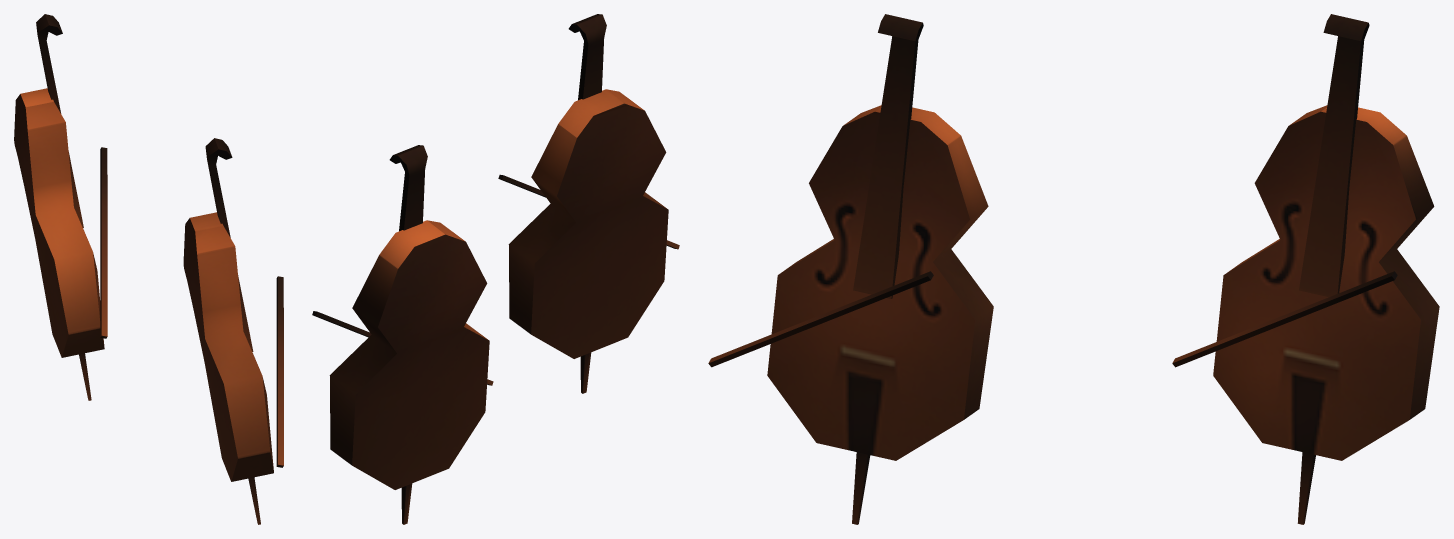
The model's file is Tx_prop_cello_5.fbx.
3 renders of one model, left to right at view 1: azimuth 30°, elevation 25°; view 2: azimuth 150°, elevation 25°; view 3: azimuth 270°, elevation 25°, orthographic. The views are drawn at different scales.
Visible parts, largest first — view 1: Tx_prop_cello_12; view 2: Tx_prop_cello_12; view 3: Tx_prop_cello_12.
Part boxes in pixels (bbox=[...]): Tx_prop_cello_12: bbox=[14, 14, 283, 524]; Tx_prop_cello_12: bbox=[312, 14, 679, 524]; Tx_prop_cello_12: bbox=[708, 14, 1439, 524].
Size of the model in its own units: 1.69 by 5.05 by 6.81.
Materials: 1 (1 with a texture image).
